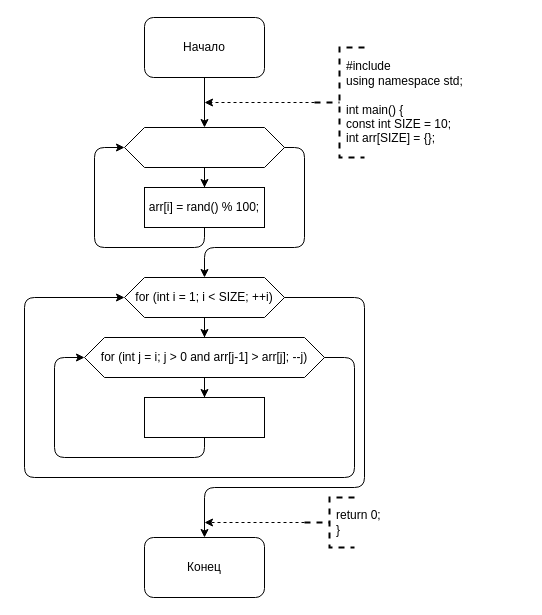
The diagram is 542 pixels wide and 615 high, and some of its shapes have lost their labels. The shapes that lost their labels are listed below. From the top down, each one's box as (x1, y1, x2, y2) in pixels, then its label:
(124, 126, 284, 168): for (int i = 0; i < SIZE; ++i)
(144, 396, 264, 438): swap(arr[j - 1], arr[j]);
